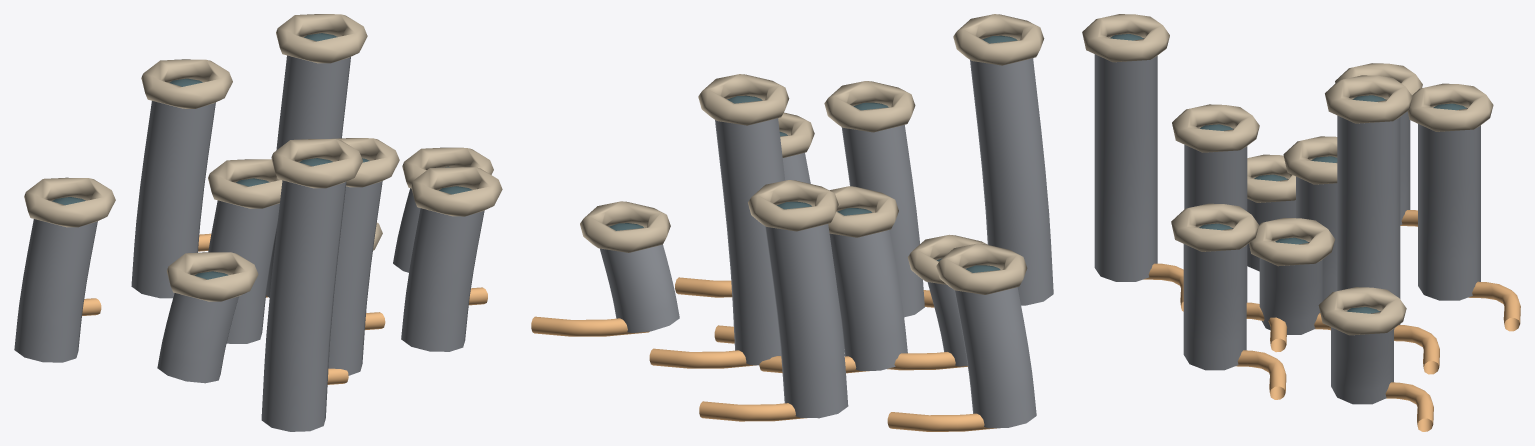
The model's file is bio_thermal_colony_01_far.glb.
The picture shows the model from 3 angles, left to right: view 1: azimuth 30°, elevation 25°; view 2: azimuth 150°, elevation 25°; view 3: azimuth 270°, elevation 25°; orthographic projection. The views are drawn at different scales.
Parts seen in each view (by area): view 1: Chimney biofilm.007, Chimney biofilm.006, Chimney biofilm.009, Chimney biofilm.005, Chimney biofilm.002, Chimney biofilm.003, Chimney biofilm.001, Chimney biofilm.004, Open vent rim.006, Open vent rim.004, Open vent rim.005, Open vent rim.003 (+6 smaller); view 2: Chimney biofilm.007, Chimney biofilm.006, Chimney biofilm.003, Chimney biofilm.009, Chimney biofilm.001, Chimney biofilm.002, Chimney biofilm.008, Open vent rim.008, Open vent rim.009, Open vent rim.002, Open vent rim.003, Open vent rim.006 (+13 smaller); view 3: Chimney biofilm.007, Chimney biofilm.003, Chimney biofilm.006, Chimney biofilm.005, Chimney biofilm.008, Chimney biofilm, Chimney biofilm.002, Open vent rim.003, Open vent rim.002, Open vent rim.008, Open vent rim.007, Open vent rim.005 (+14 smaller).
Part boxes in pixels (left/top/right/bottom): Chimney biofilm.007: left=261, top=180, right=346, bottom=431; Chimney biofilm.006: left=131, top=101, right=215, bottom=298; Chimney biofilm.009: left=14, top=219, right=97, bottom=362; Chimney biofilm.005: left=401, top=208, right=484, bottom=351; Chimney biofilm.002: left=328, top=181, right=382, bottom=375; Chimney biofilm.003: left=266, top=55, right=350, bottom=297; Chimney biofilm.001: left=208, top=200, right=279, bottom=343; Chimney biofilm.004: left=157, top=293, right=238, bottom=383; Open vent rim.006: left=141, top=59, right=232, bottom=108; Open vent rim.004: left=167, top=252, right=258, bottom=301; Open vent rim.005: left=411, top=167, right=502, bottom=216; Open vent rim.003: left=276, top=14, right=367, bottom=63; Chimney biofilm.007: left=970, top=39, right=1053, bottom=305; Chimney biofilm.006: left=765, top=205, right=848, bottom=418; Chimney biofilm.003: left=715, top=99, right=785, bottom=365; Chimney biofilm.009: left=954, top=268, right=1036, bottom=428; Chimney biofilm.001: left=829, top=211, right=907, bottom=370; Chimney biofilm.002: left=841, top=106, right=924, bottom=317; Chimney biofilm.008: left=600, top=226, right=679, bottom=332; Open vent rim.008: left=580, top=201, right=670, bottom=252; Open vent rim.009: left=936, top=243, right=1027, bottom=294; Open vent rim.002: left=824, top=81, right=915, bottom=132; Open vent rim.003: left=698, top=74, right=789, bottom=125; Open vent rim.006: left=748, top=180, right=838, bottom=231; Chimney biofilm.007: left=1094, top=38, right=1157, bottom=281; Chimney biofilm.003: left=1337, top=99, right=1400, bottom=329; Chimney biofilm.006: left=1418, top=107, right=1480, bottom=300; Chimney biofilm.005: left=1183, top=228, right=1246, bottom=370; Chimney biofilm.008: left=1331, top=311, right=1393, bottom=404; Chimney biofilm: left=1259, top=242, right=1322, bottom=334; Chimney biofilm.002: left=1184, top=128, right=1247, bottom=302; Open vent rim.003: left=1325, top=75, right=1412, bottom=123; Open vent rim.002: left=1172, top=104, right=1259, bottom=152; Open vent rim.008: left=1318, top=287, right=1406, bottom=335; Open vent rim.007: left=1082, top=14, right=1169, bottom=62; Open vent rim.005: left=1171, top=203, right=1258, bottom=251.
Size of the model in its own units: 1.68 by 0.9103 by 1.39.
